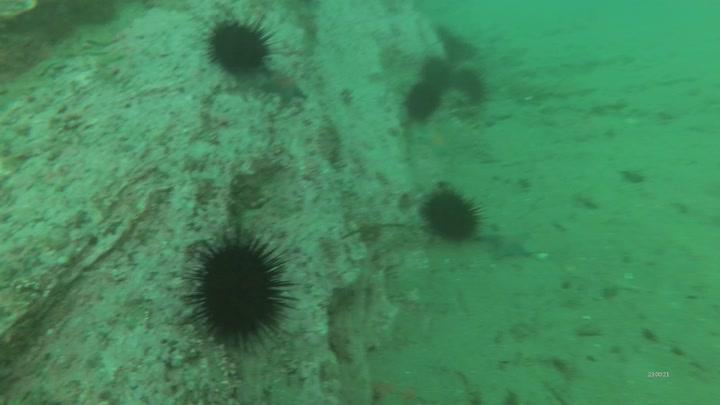urchin: (176, 221, 299, 351), (414, 181, 486, 243), (200, 16, 274, 75), (403, 78, 442, 120), (453, 64, 492, 104), (415, 52, 455, 91)
